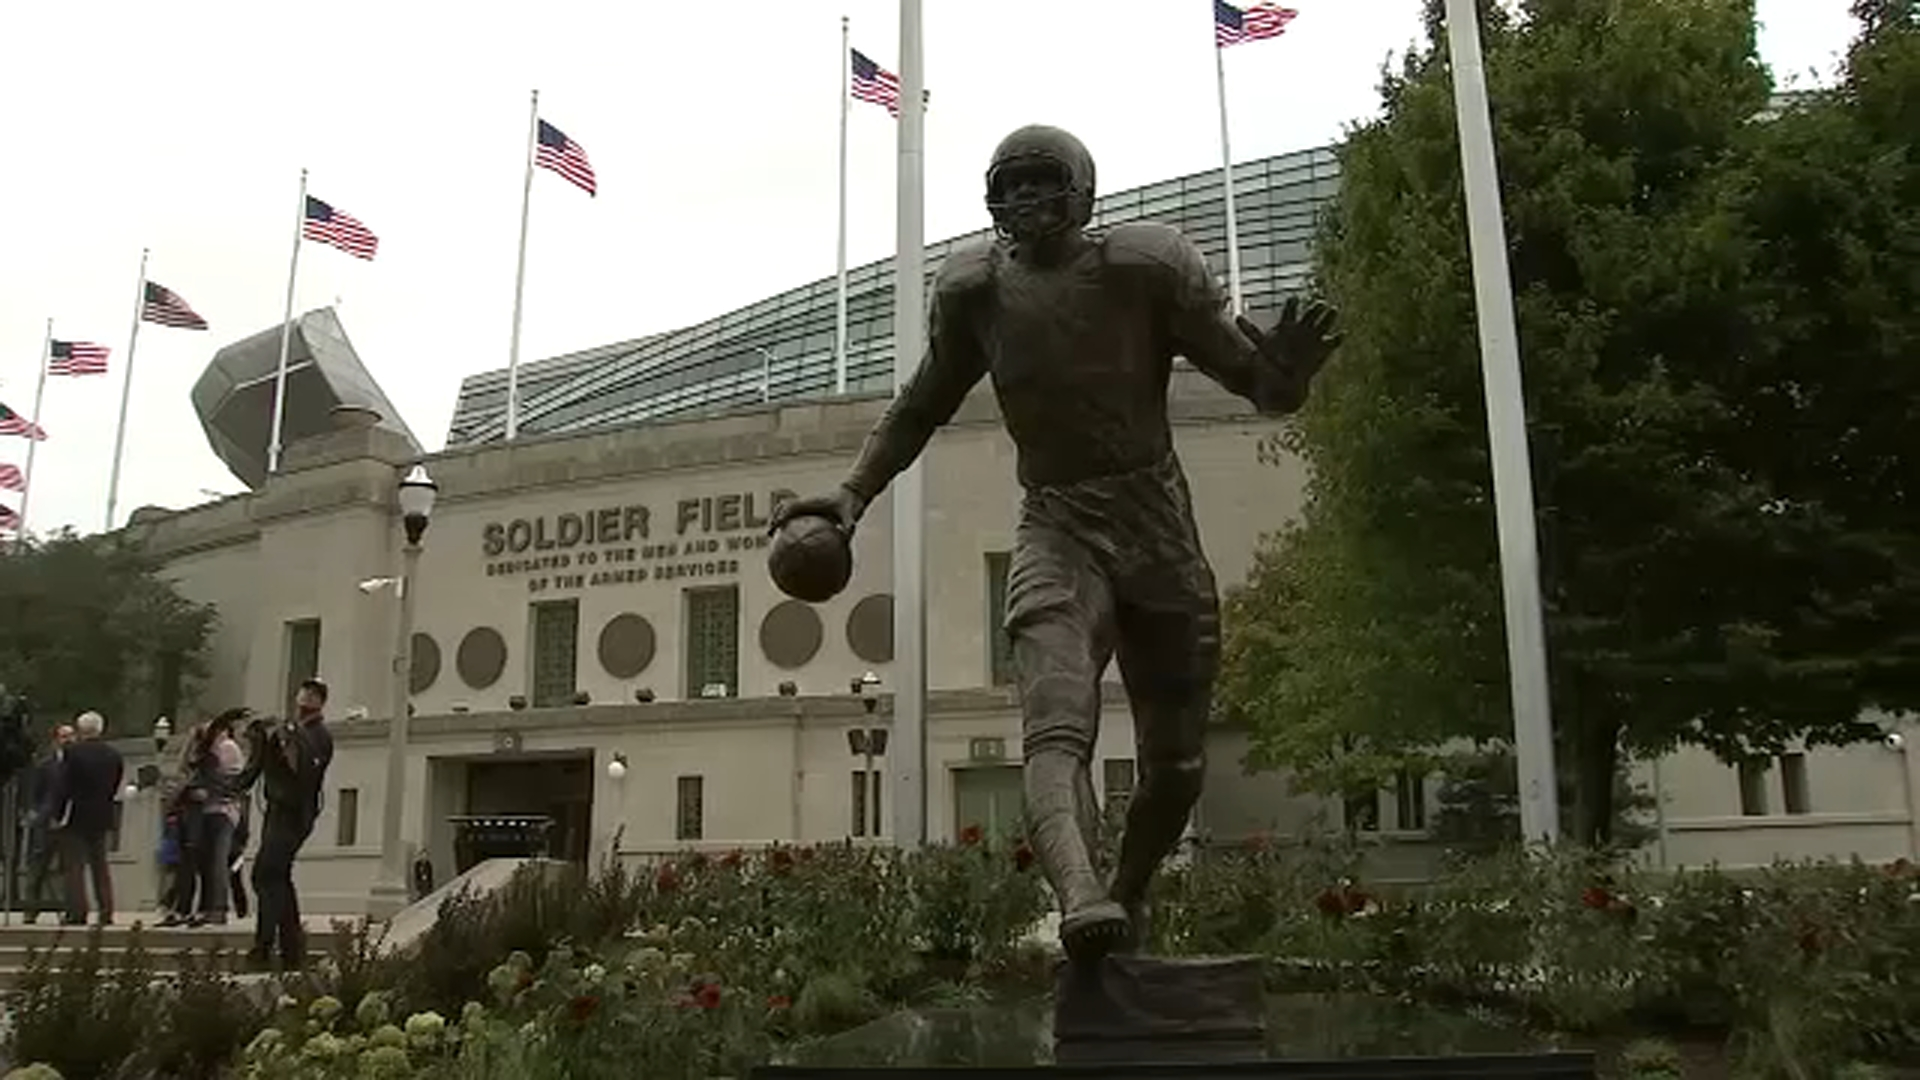person: (207, 674, 349, 981), (49, 709, 133, 928), (15, 717, 85, 931), (188, 717, 250, 930)
person-like: (743, 112, 1383, 978)
